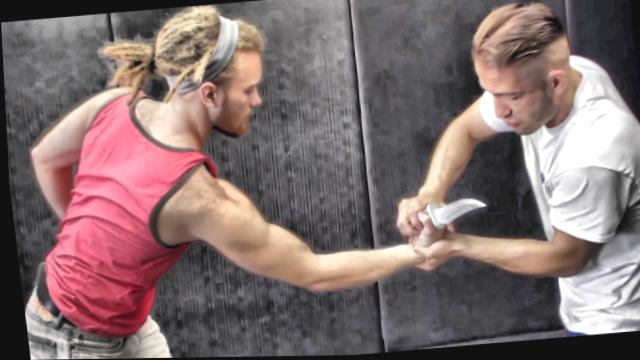knife: (399, 191, 498, 242)
